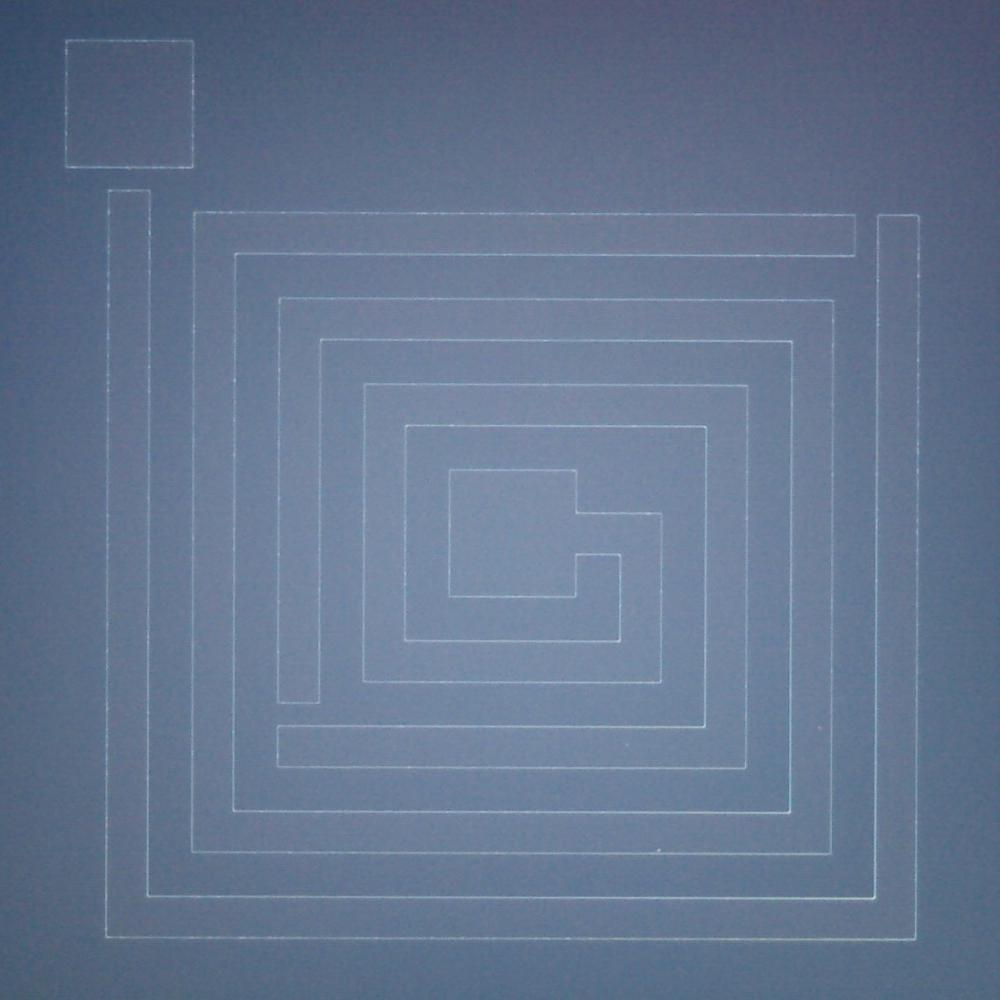dot: (817, 726, 823, 732), (657, 847, 661, 852)
